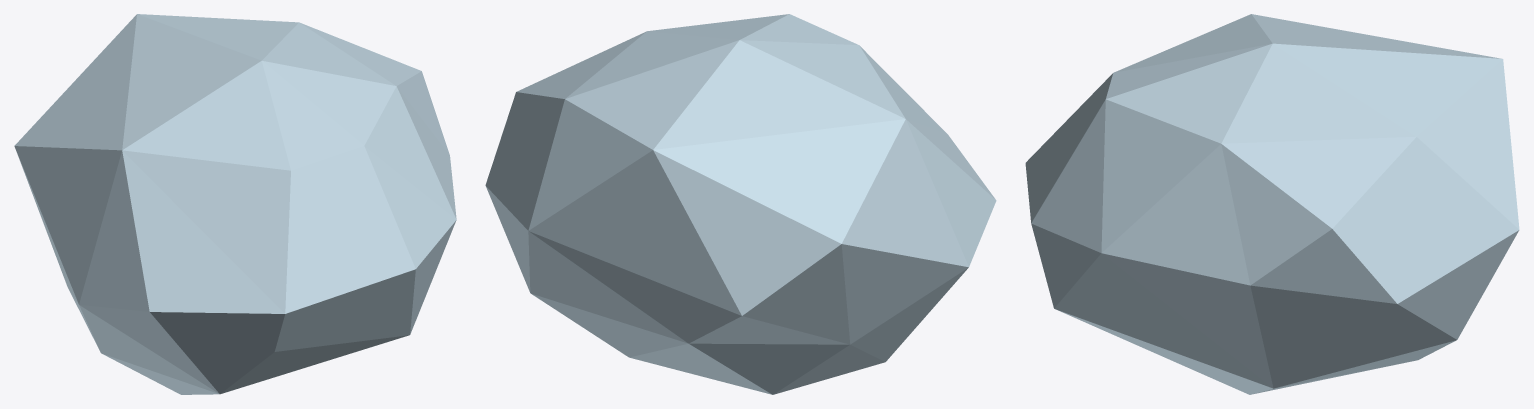
The model's file is Clouds.fbx.
The picture shows the model from 3 angles, left to right: view 1: azimuth 30°, elevation 25°; view 2: azimuth 150°, elevation 25°; view 3: azimuth 270°, elevation 25°; orthographic projection. The views are drawn at different scales.
Visible parts, largest first — view 1: polySurface9085; view 2: polySurface9085; view 3: polySurface9085.
Boxes of the visible parts, x1,y1,x2,y2 form: polySurface9085: [14, 14, 456, 394]; polySurface9085: [485, 14, 996, 394]; polySurface9085: [1025, 14, 1519, 394].
Bounding box in the file's own units: 8.7 × 6.52 × 8.64.
